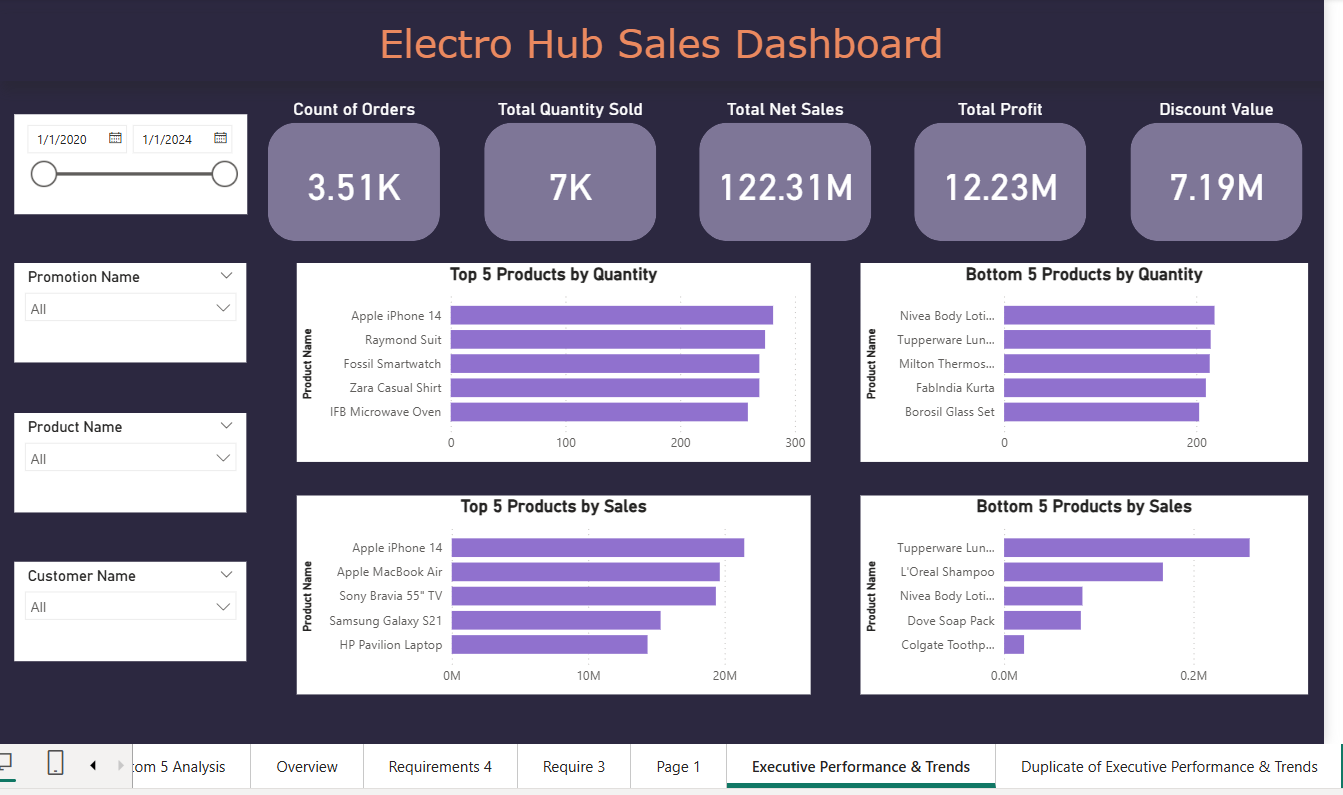

This screenshot's page, from the dashboard's own definition file:
{"tool":"powerbi","page":{"name":"Executive Performance & Trends","canvas":[1280,720],"ordinal":5},"visuals":[{"type":"textbox","box":[0,16,1280,64],"z":0},{"type":"slicer","fields":{"Values":["Fact Table.Date (dd/mm/yyyy)"]},"box":[16,112,224,96],"z":1000},{"type":"slicer","fields":{"Values":["Dim Promotion.Promotion Name"]},"box":[16,256,224,96],"z":2000},{"type":"slicer","fields":{"Values":["Dim Product.Product Name"]},"box":[16,400,224,96],"z":3000},{"type":"slicer","fields":{"Values":["Dim Customers.Customer Name"]},"box":[16,544,224,96],"z":4000},{"type":"cardVisual","title":"Count of Orders","fields":{"Data":["CountNonNull(Fact Table.Order ID)"]},"box":[256,96,176,144],"z":5000},{"type":"cardVisual","title":"Total Profit","fields":{"Data":["Sum(Fact Table.Profit)"]},"box":[880,96,176,144],"z":6000},{"type":"cardVisual","title":"Total Net Sales","fields":{"Data":["Sum(Fact Table.Net Sales)"]},"box":[672,96,176,144],"z":7000},{"type":"cardVisual","title":"Total Quantity Sold","fields":{"Data":["Measures Table.Quantity Sold"]},"box":[464,96,176,144],"z":8000},{"type":"cardVisual","title":"Discount Value","fields":{"Data":["Sum(Fact Table.Discount Value)"]},"box":[1088,96,176,144],"z":9000},{"type":"barChart","title":"Top 5 Products by Sales","fields":{"Category":["Dim Product.Product Name"],"Y":["Sum(Fact Table.Net Sales)"]},"box":[288,480,496,192],"z":10000},{"type":"barChart","title":"Bottom 5 Products by Sales","fields":{"Category":["Dim Product.Product Name"],"Y":["Sum(Fact Table.Net Sales)"]},"box":[832,480,432,192],"z":11000},{"type":"barChart","title":"Top 5 Products by Quantity","fields":{"Category":["Dim Product.Product Name"],"Y":["Sum(Fact Table.Units Sold)"]},"box":[288,256,496,192],"z":12000},{"type":"barChart","title":"Bottom 5 Products by Quantity","fields":{"Category":["Dim Product.Product Name"],"Y":["Sum(Fact Table.Units Sold)"]},"box":[832,256,432,192],"z":13000}]}

Visuals, with their boxes on the page's 1280x720 design canvas (x1, y1, x2, y2). These are canvas units, not pixel positions in the 1343x795 screenshot, which may show the page scaled, cropped or inside an application window:
textbox: 0/16/1280/80
slicer - Fact Table.Date (dd/mm/yyyy): 16/112/240/208
slicer - Dim Promotion.Promotion Name: 16/256/240/352
slicer - Dim Product.Product Name: 16/400/240/496
slicer - Dim Customers.Customer Name: 16/544/240/640
"Count of Orders" cardVisual: 256/96/432/240
"Total Profit" cardVisual: 880/96/1056/240
"Total Net Sales" cardVisual: 672/96/848/240
"Total Quantity Sold" cardVisual: 464/96/640/240
"Discount Value" cardVisual: 1088/96/1264/240
"Top 5 Products by Sales" barChart: 288/480/784/672
"Bottom 5 Products by Sales" barChart: 832/480/1264/672
"Top 5 Products by Quantity" barChart: 288/256/784/448
"Bottom 5 Products by Quantity" barChart: 832/256/1264/448
